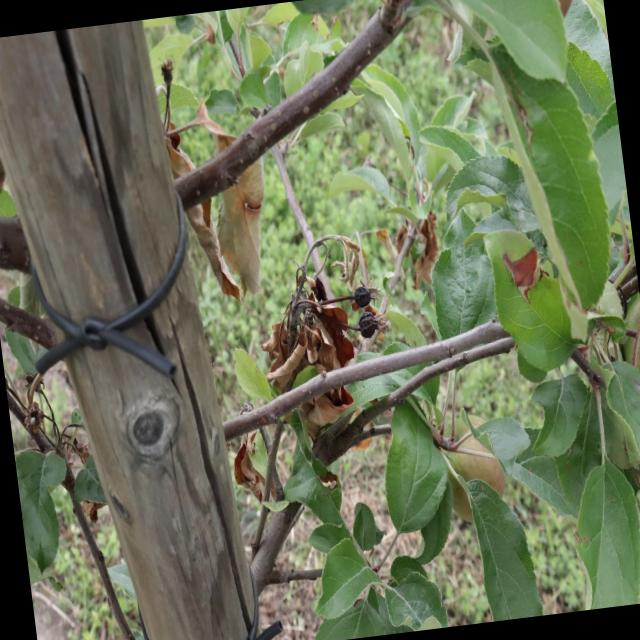-FireBlight-: (163, 102, 281, 310), (250, 281, 380, 437), (375, 210, 436, 298), (231, 433, 279, 506)
